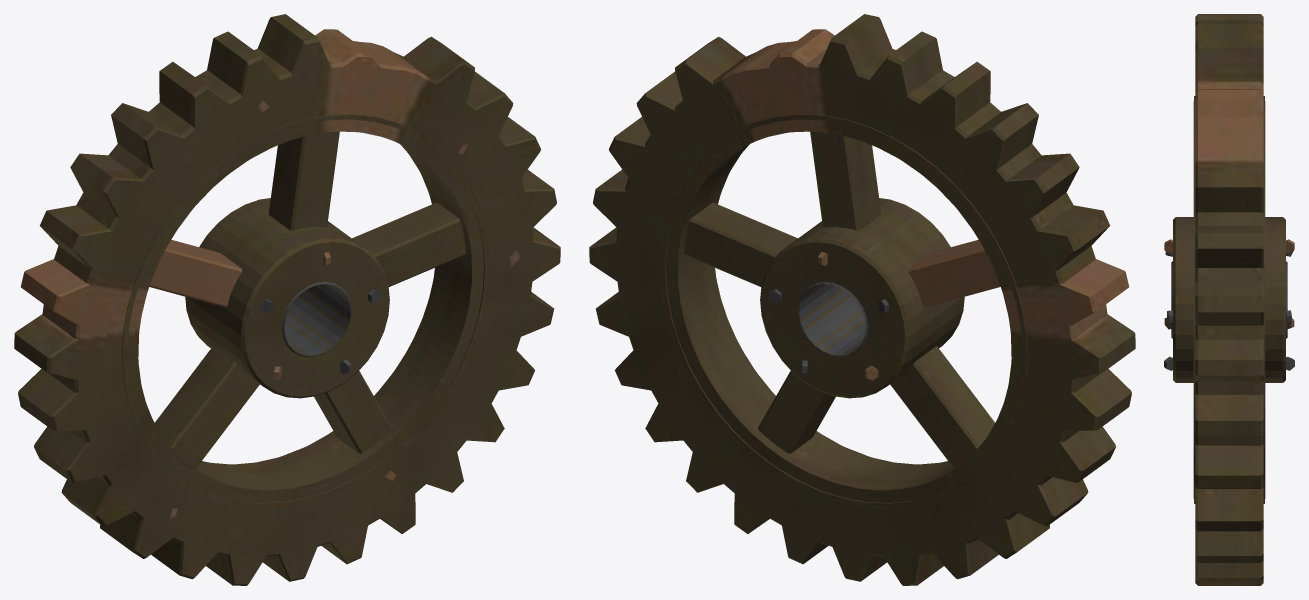
Rendered from Y27_large_brass_gear_v3.glb.
3 views of the same model, side by side, from view 1: azimuth 30°, elevation 25°; view 2: azimuth 150°, elevation 25°; view 3: azimuth 270°, elevation 25° (orthographic). The views are drawn at different scales.
Visible parts, largest first — view 1: Cast toothed brass rim; view 2: Cast toothed brass rim; view 3: Cast toothed brass rim.
Boxes of the visible parts, box(x1,y1,x2,y2) form: Cast toothed brass rim: box(14, 14, 560, 585); Cast toothed brass rim: box(589, 14, 1135, 585); Cast toothed brass rim: box(1164, 14, 1294, 585).
Size of the model in its own units: 1 by 1 by 0.2286.
3 materials, 3 textured.
